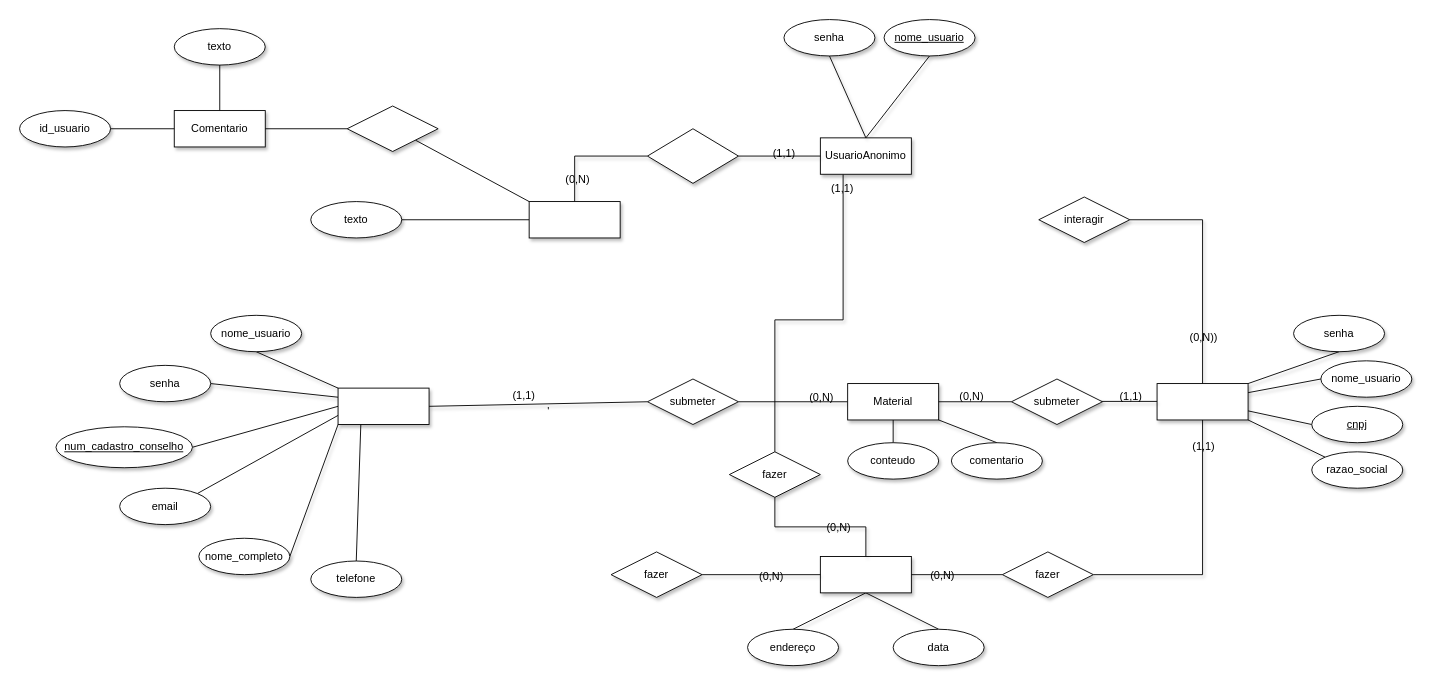
The diagram is 1433 pixels wide and 688 high, and some of its shapes have lost their labels. The centre of each missing label's shape, as x and y in pixels:
"Denuncia" belongs at [866,575].
"ONG" belongs at [1203,402].
"Profissional" belongs at [384,407].
"publicar" belongs at [693,157].
"Relato" belongs at [575,220].
"tem" belongs at [393,129].
